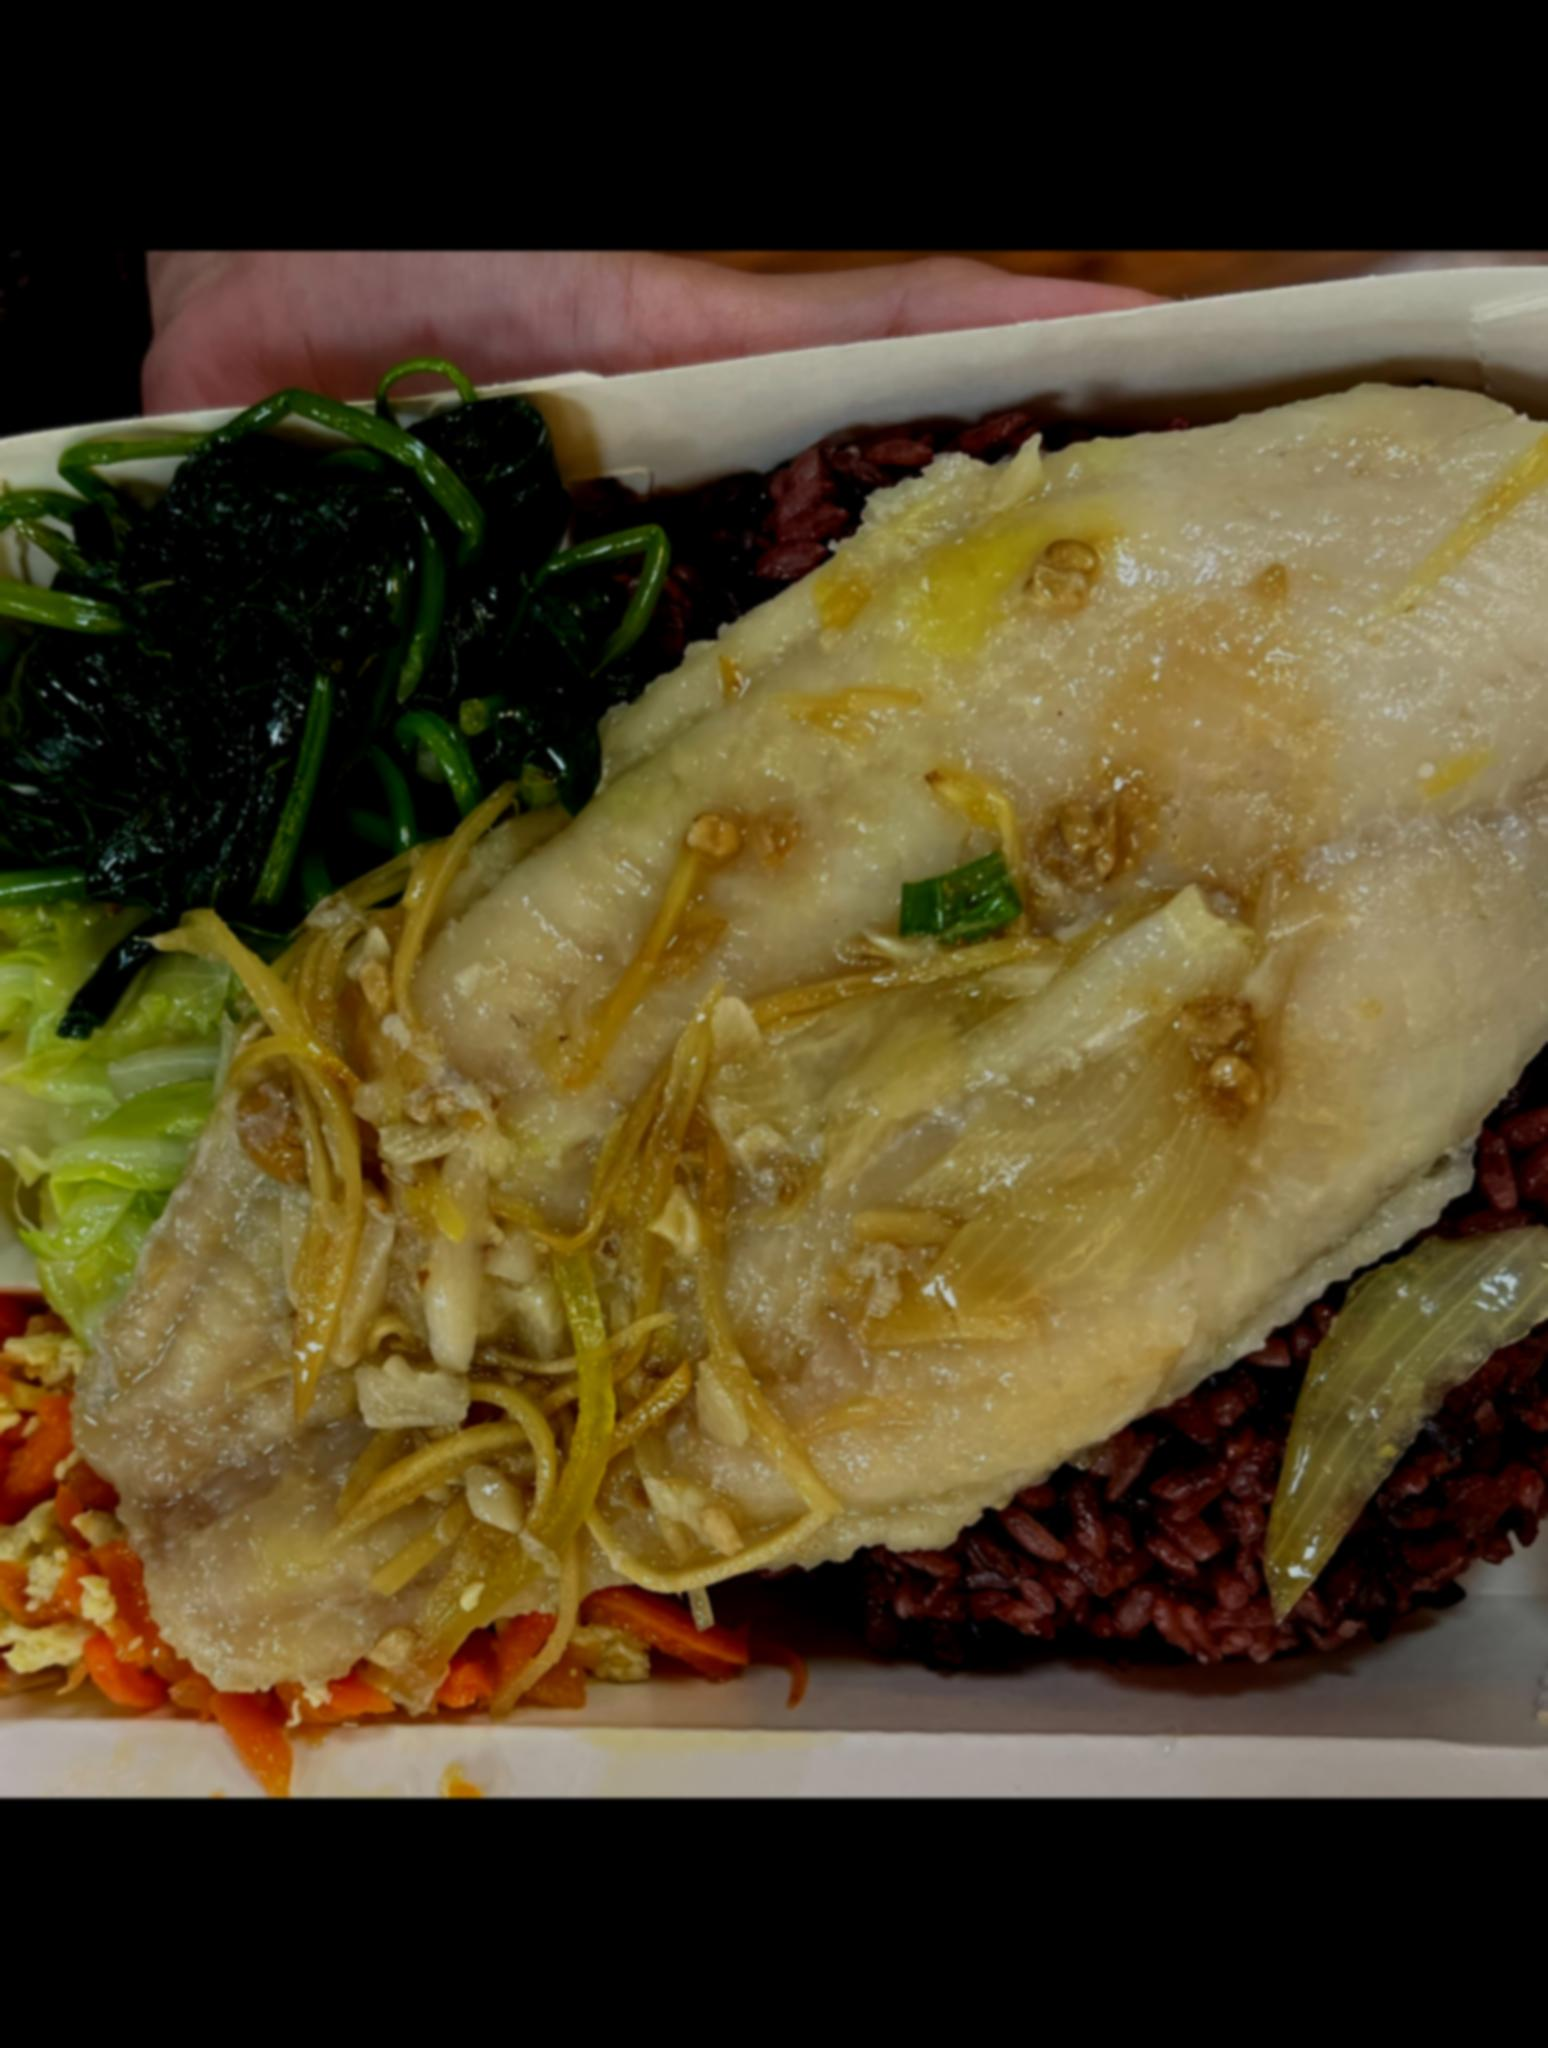box: (0, 250, 1548, 1777)
purple rice: (725, 379, 1548, 1700)
side dish: (0, 379, 627, 918), (0, 1258, 615, 1732), (0, 897, 591, 1254)
steamed fish fillet: (141, 364, 1548, 1661)
